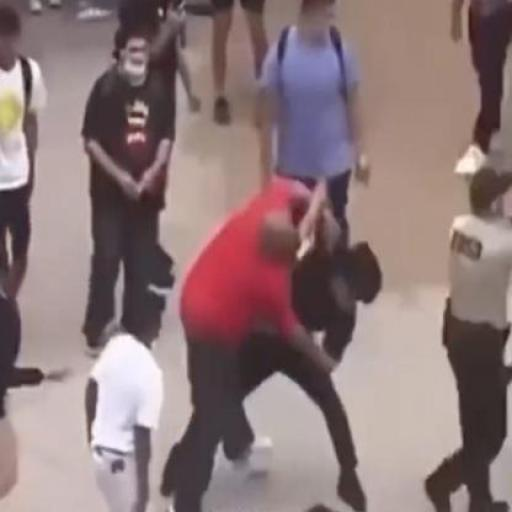Fighting: (158, 177, 379, 510)
